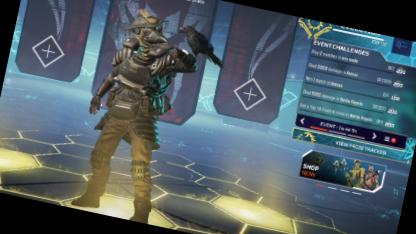Target: (82, 3, 183, 221)
